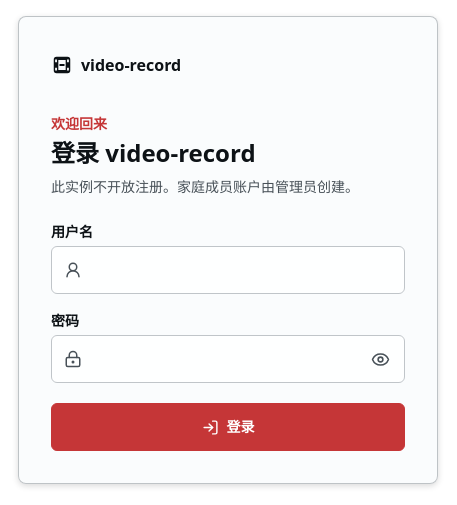
Test: AuthGate › restores password input focus and selection after pointer toggles in both directions
Type "correct horse battery staple" into the password field labelled "密码" at [221, 359], box [92,336,350,382]
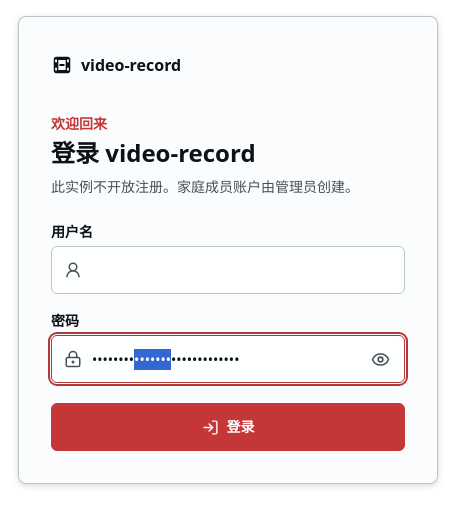
Click the button named "显示密码" at [380, 359], box [358,337,402,381]
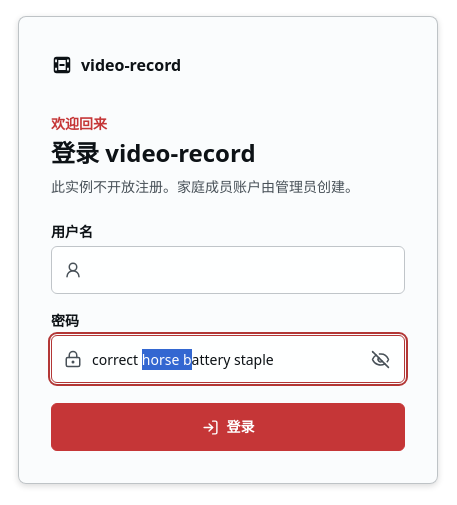
Now the field labelled "密码" shows its text, box [92,336,350,382]
Click the button named "隐藏密码" at [380, 359], box [358,337,402,381]
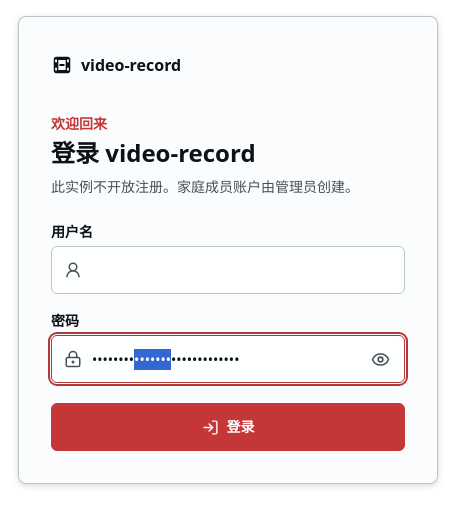
Now the password field labelled "密码" hides its text, box [92,336,350,382]
